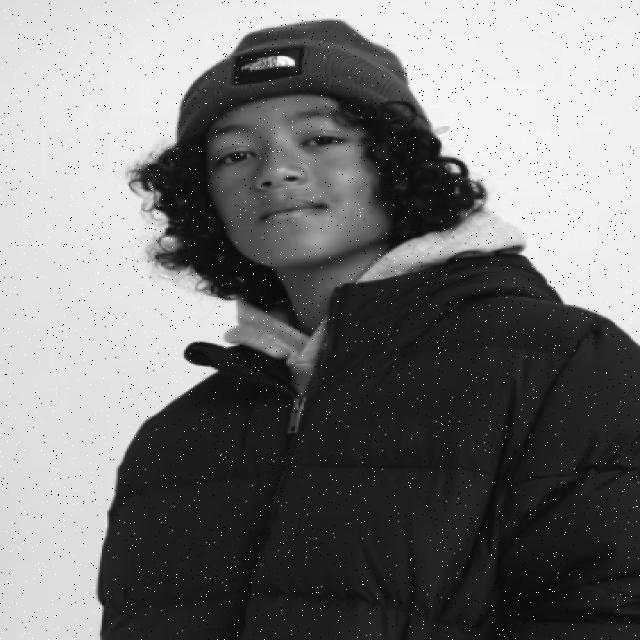face_no_mask: (200, 95, 400, 271)
